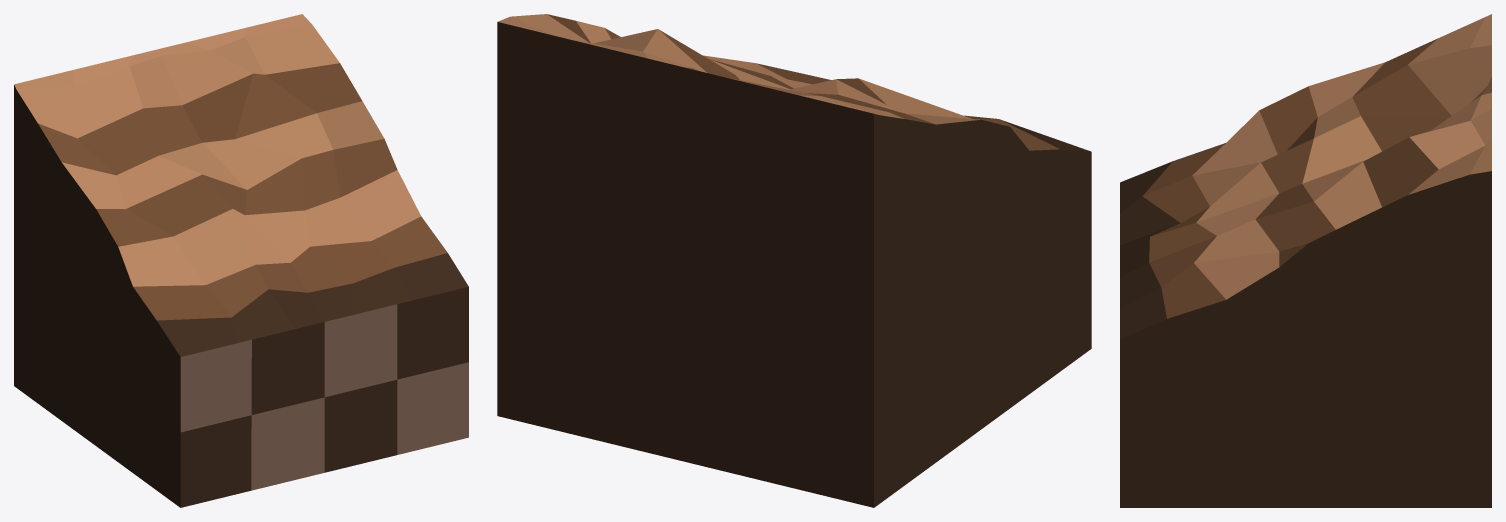
The model's file is wall2Alt.fbx.
3 views of the same model, side by side, from view 1: azimuth 30°, elevation 25°; view 2: azimuth 150°, elevation 25°; view 3: azimuth 270°, elevation 25° (orthographic). The views are drawn at different scales.
Parts seen in each view (by area): view 1: Cube.002; view 2: Cube.002; view 3: Cube.002.
Boxes of the visible parts, bbox=[...] form: Cube.002: bbox=[14, 14, 468, 507]; Cube.002: bbox=[497, 14, 1091, 507]; Cube.002: bbox=[1120, 14, 1491, 507].
Bounding box in the file's own units: 100 × 100 × 100.
